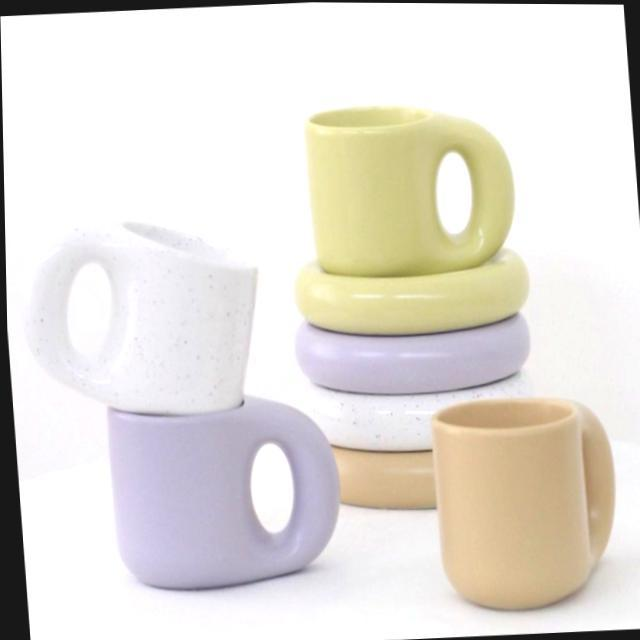cup: (418, 384, 631, 638)
